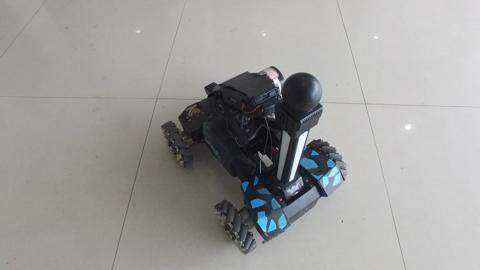chariot: (157, 68, 342, 235)
